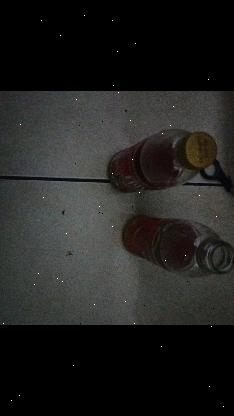Plastic Bottle: (106, 129, 218, 193), (123, 215, 234, 277)
